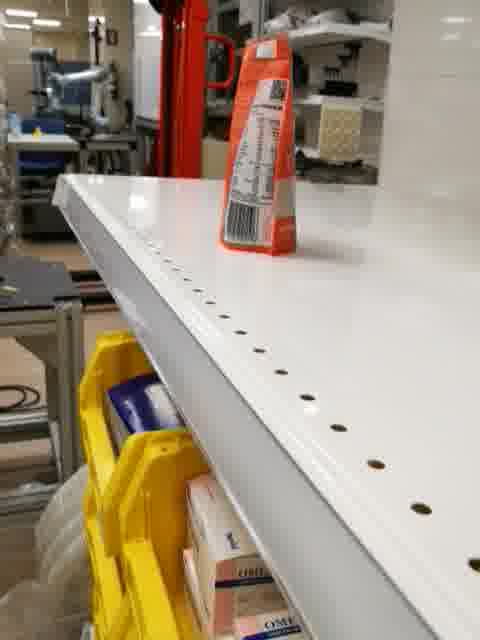whitechia: (216, 29, 300, 259)
